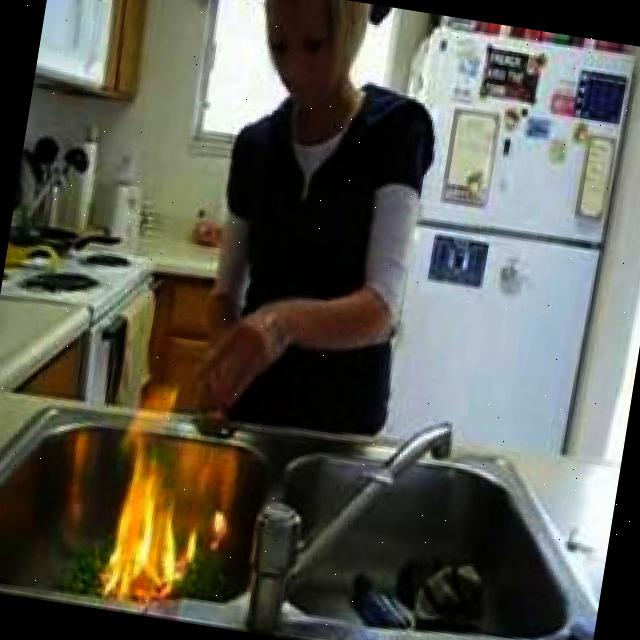fire: (94, 410, 208, 610)
